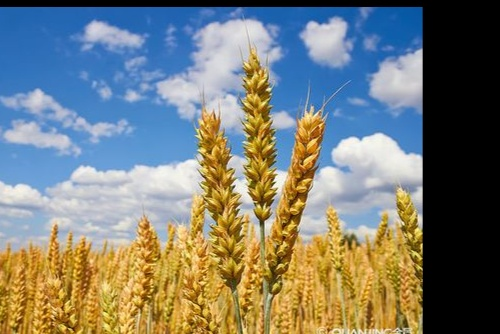wheat: (267, 107, 317, 298), (193, 98, 239, 293), (240, 45, 278, 222)
